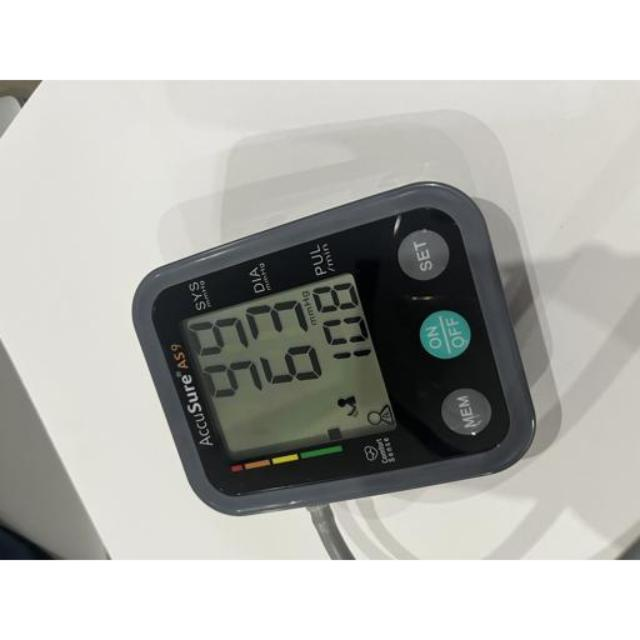Blood-Pressure-Monitor: (130, 175, 538, 521)
